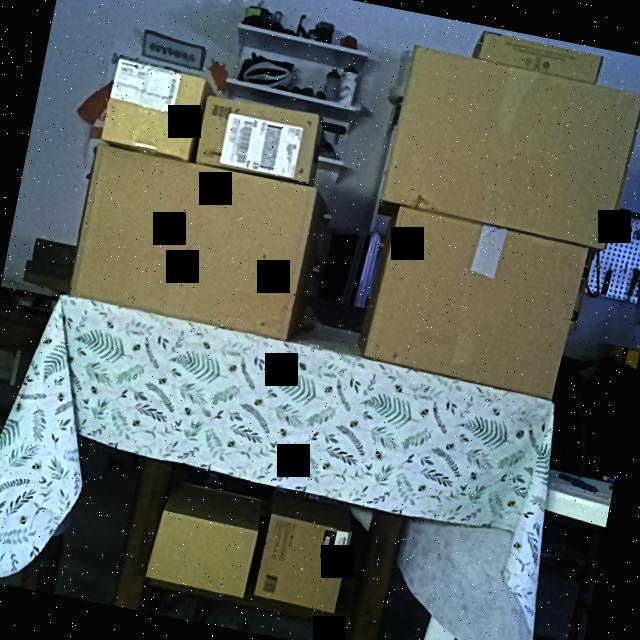box: (67, 142, 321, 339), (382, 53, 640, 246), (366, 207, 584, 394), (193, 94, 323, 184), (102, 58, 206, 161), (148, 508, 258, 598), (254, 514, 352, 610), (480, 30, 604, 86)
